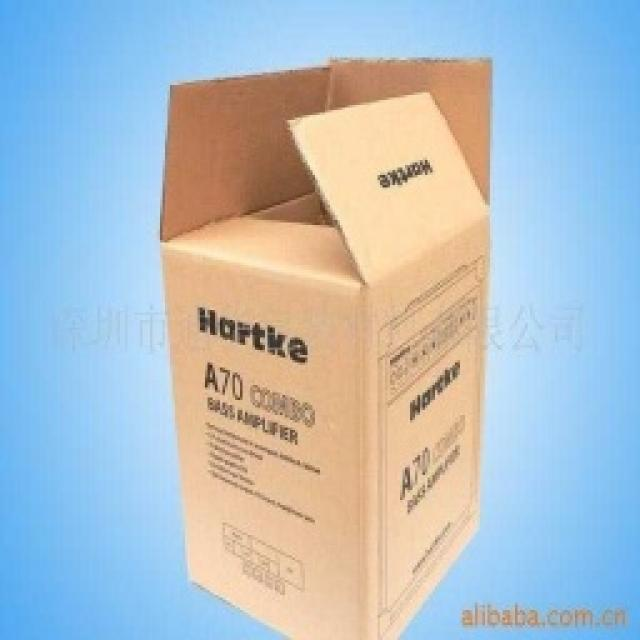box: (153, 72, 531, 640)
